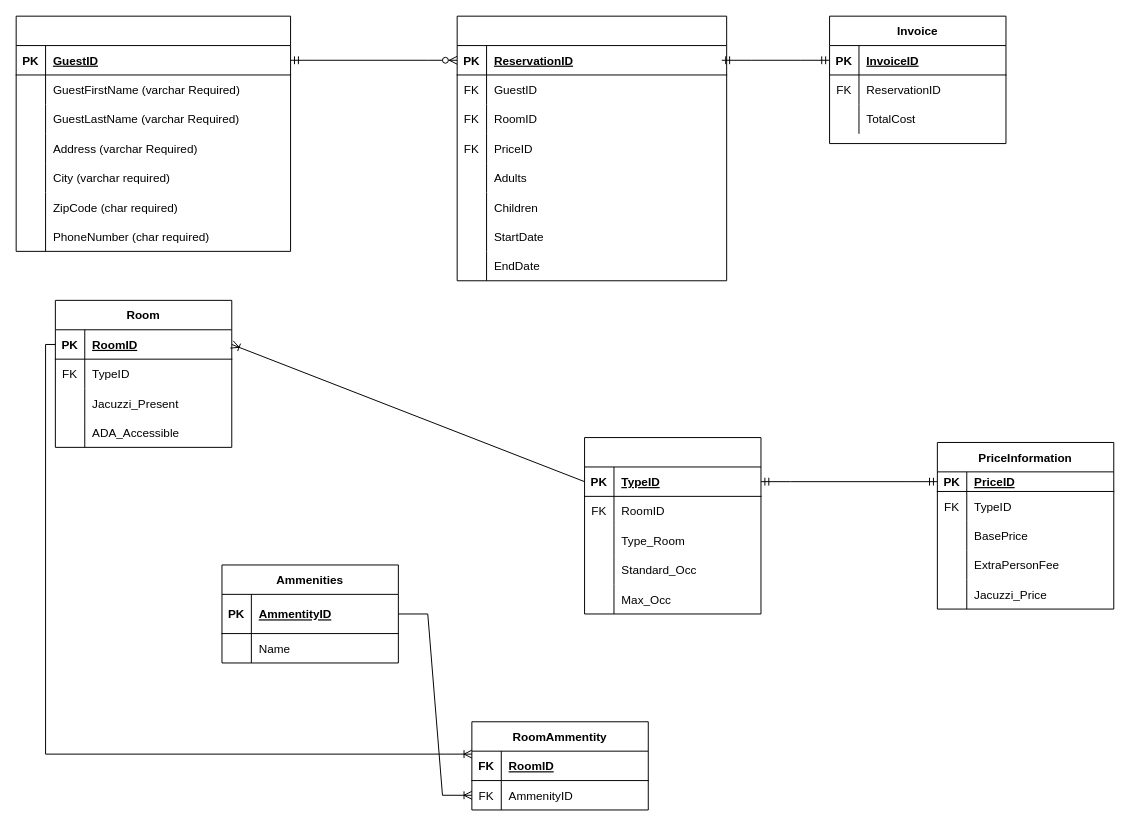
This 1130x826 diagram has some shape labels left out. Here are the shapes that lost their labels. From the top down, the box of each, then its label:
(15, 15, 291, 251): GuestInformation
(456, 15, 727, 281): Reservations
(584, 437, 761, 614): RoomType
